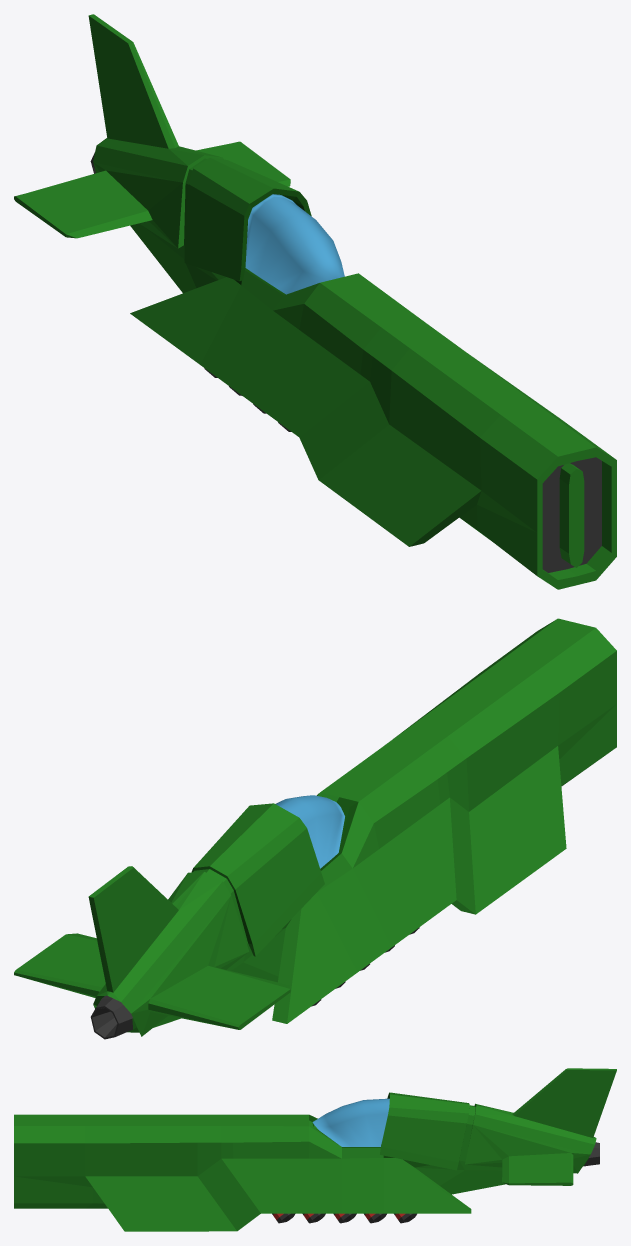
The model's file is spitfireMkX.fbx.
The picture shows the model from 3 angles, top to bottom: view 1: azimuth 30°, elevation 25°; view 2: azimuth 150°, elevation 25°; view 3: azimuth 270°, elevation 25°; orthographic projection. The views are drawn at different scales.
Parts seen in each view (by area): view 1: Spitfire; view 2: Spitfire; view 3: Spitfire.
Part boxes in pixels (x1=…): Spitfire: x1=14, y1=14, x2=616, y2=589; Spitfire: x1=14, y1=618, x2=616, y2=1039; Spitfire: x1=14, y1=1068, x2=616, y2=1231.
Bounding box in the file's own units: 70.89 × 68.92 × 266.
